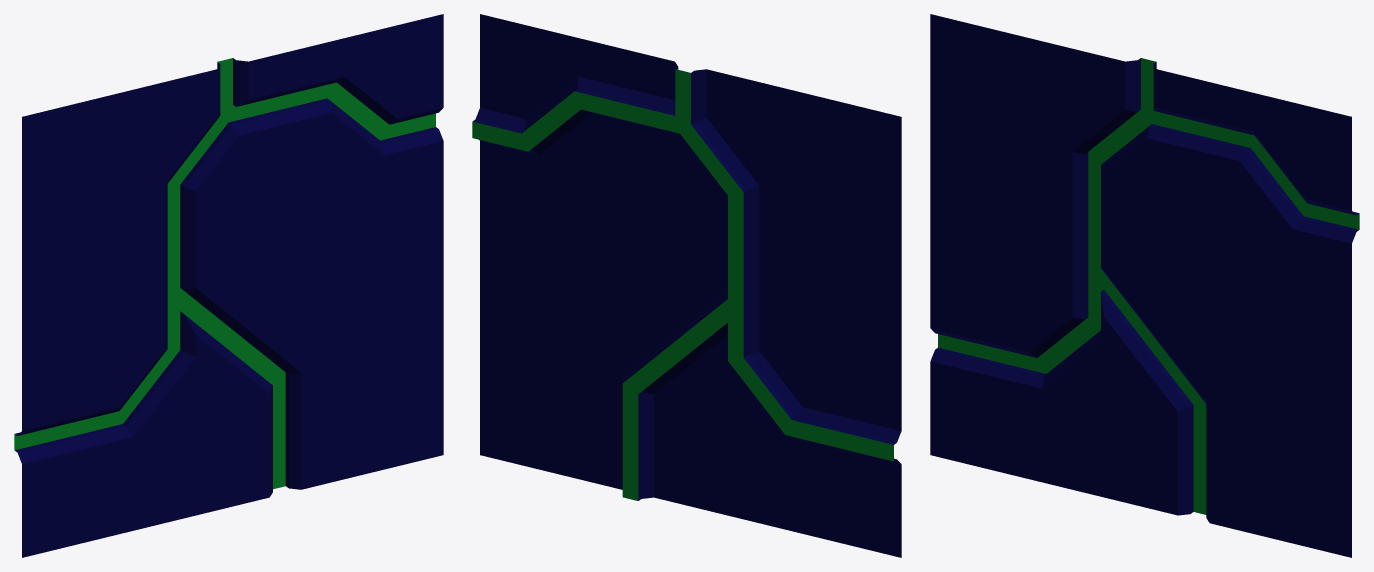
Rendered from OBJ_Mur_8.fbx.
3 renders of one model, left to right at view 1: azimuth 30°, elevation 25°; view 2: azimuth 150°, elevation 25°; view 3: azimuth 330°, elevation 25°, orthographic.
Visible parts, largest first — view 1: OBJ_Mur_8; view 2: OBJ_Mur_8; view 3: OBJ_Mur_8.
Boxes of the visible parts, x1,y1,x2,y2 form: OBJ_Mur_8: (14, 14, 443, 557); OBJ_Mur_8: (472, 14, 901, 557); OBJ_Mur_8: (930, 14, 1359, 557).
Bounding box in the file's own units: 16 × 16 × 0.5.
